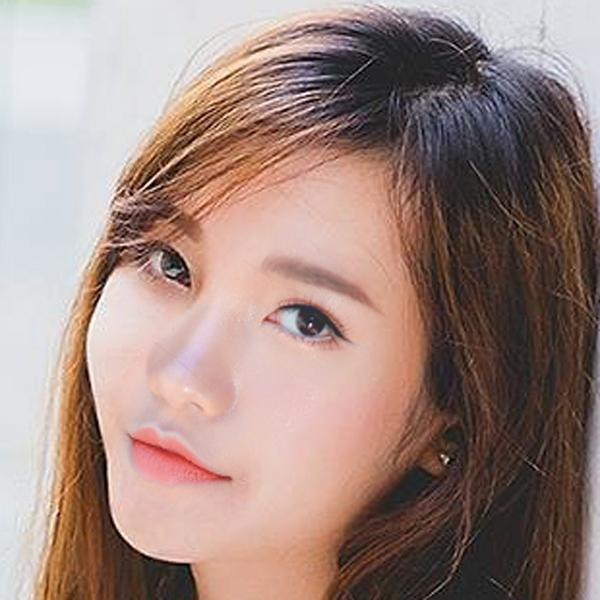Eyes: (256, 286, 354, 355), (129, 232, 198, 298)
